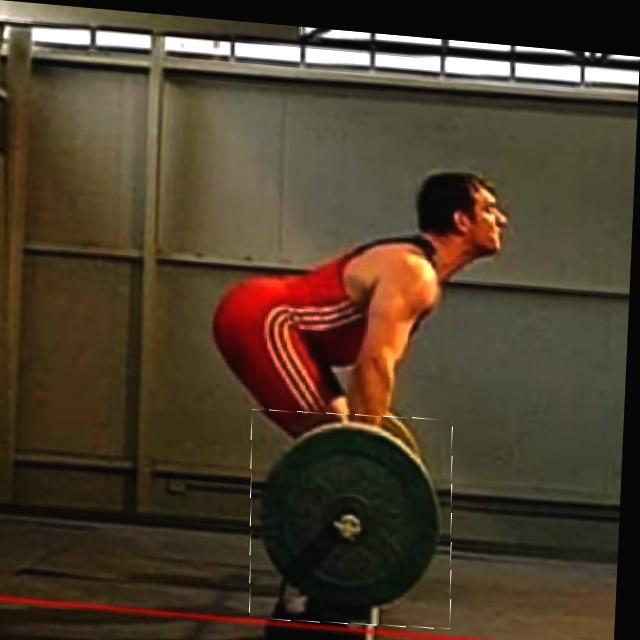barbell: (251, 401, 462, 626)
